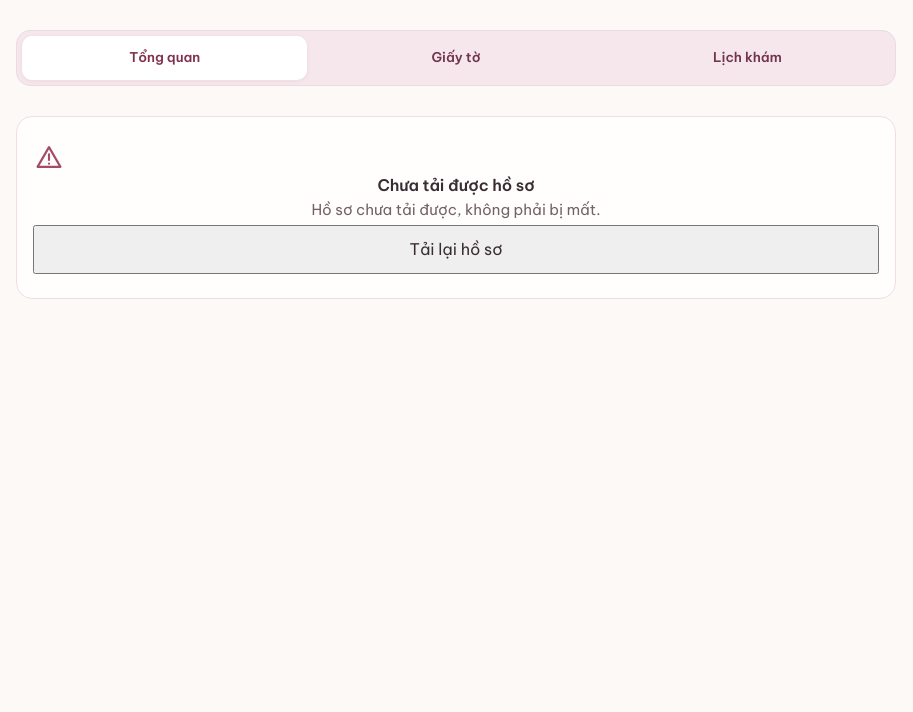
Test case: retries a failed overview instead of directing the user to upload again
This screenshot has width=913, height=712.
Click the button "Tải lại hồ sơ".
click(456, 250)  # box left=33, top=225, right=879, bottom=274
(page scrolled)
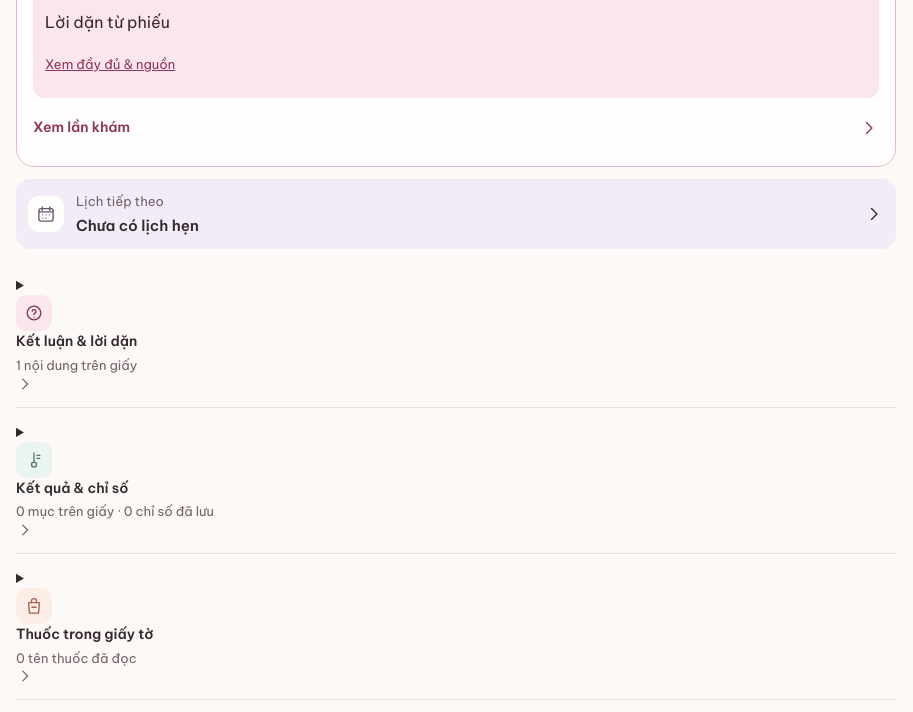
Expected: the button "Tải lại hồ sơ" is gone
